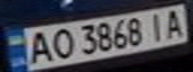3: (75, 21, 96, 55)
6: (112, 17, 133, 50)
8: (124, 15, 148, 47), (93, 19, 115, 53)
A: (21, 29, 54, 65), (160, 7, 190, 39)
I: (145, 10, 172, 43)
O: (45, 26, 75, 61)
